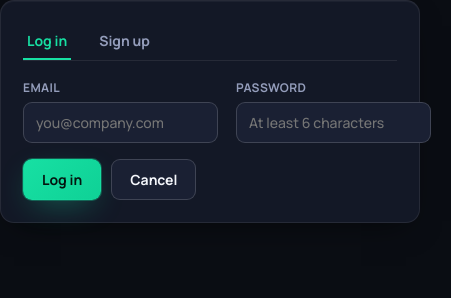
Scenario: AuthPanel — login › shows the error and leaves the panel open on a failed login
The width and height of the screenshot is (451, 298).
Type "a@b.com" into the field with placeholder "you@company.com" at (120, 122), box x1=23 y1=102 x2=218 y2=143
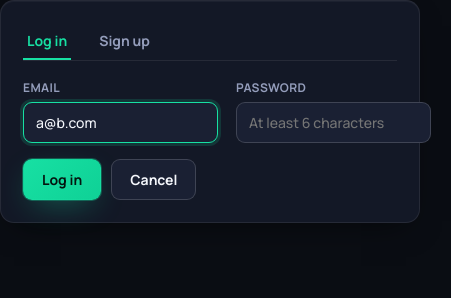
Type "wrong-password" into the password field with placeholder "At least 6 characters" at (334, 122), box x1=236 y1=102 x2=431 y2=143
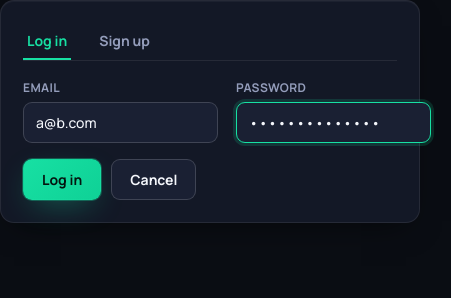
Click the submit button at (62, 180), box x1=23 y1=159 x2=101 y2=200
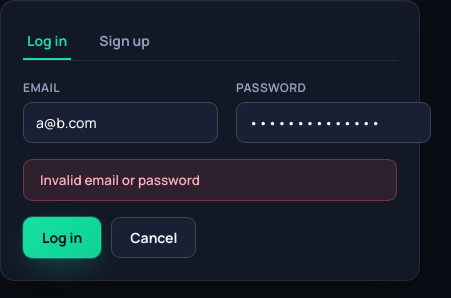
Result: the text "Invalid email or password" is shown at x1=23 y1=159 x2=397 y2=201
